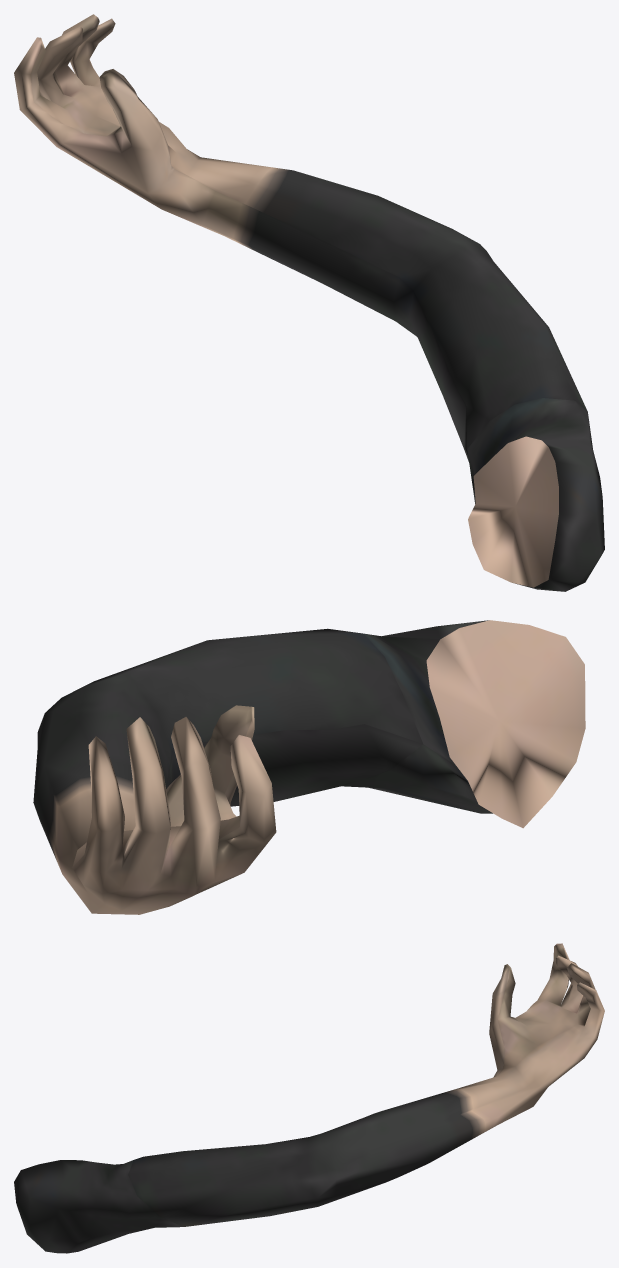
File: dest_nt_nuked_female_01_arm_left_LOD1.obj
3 views of the same model, one above another, from view 1: azimuth 30°, elevation 25°; view 2: azimuth 150°, elevation 25°; view 3: azimuth 270°, elevation 25° (orthographic). The views are drawn at different scales.
Visible parts, largest first — view 1: mtl_nt_2020_manne_fem01_head1; view 2: mtl_nt_2020_manne_fem01_head1; view 3: mtl_nt_2020_manne_fem01_head1.
Part boxes in pixels (box(x1,y1,x2,y2)): mtl_nt_2020_manne_fem01_head1: box(14, 14, 604, 591); mtl_nt_2020_manne_fem01_head1: box(33, 620, 585, 914); mtl_nt_2020_manne_fem01_head1: box(14, 943, 604, 1253).
Bounding box in the file's own units: 26.92 × 28.14 × 60.33.
